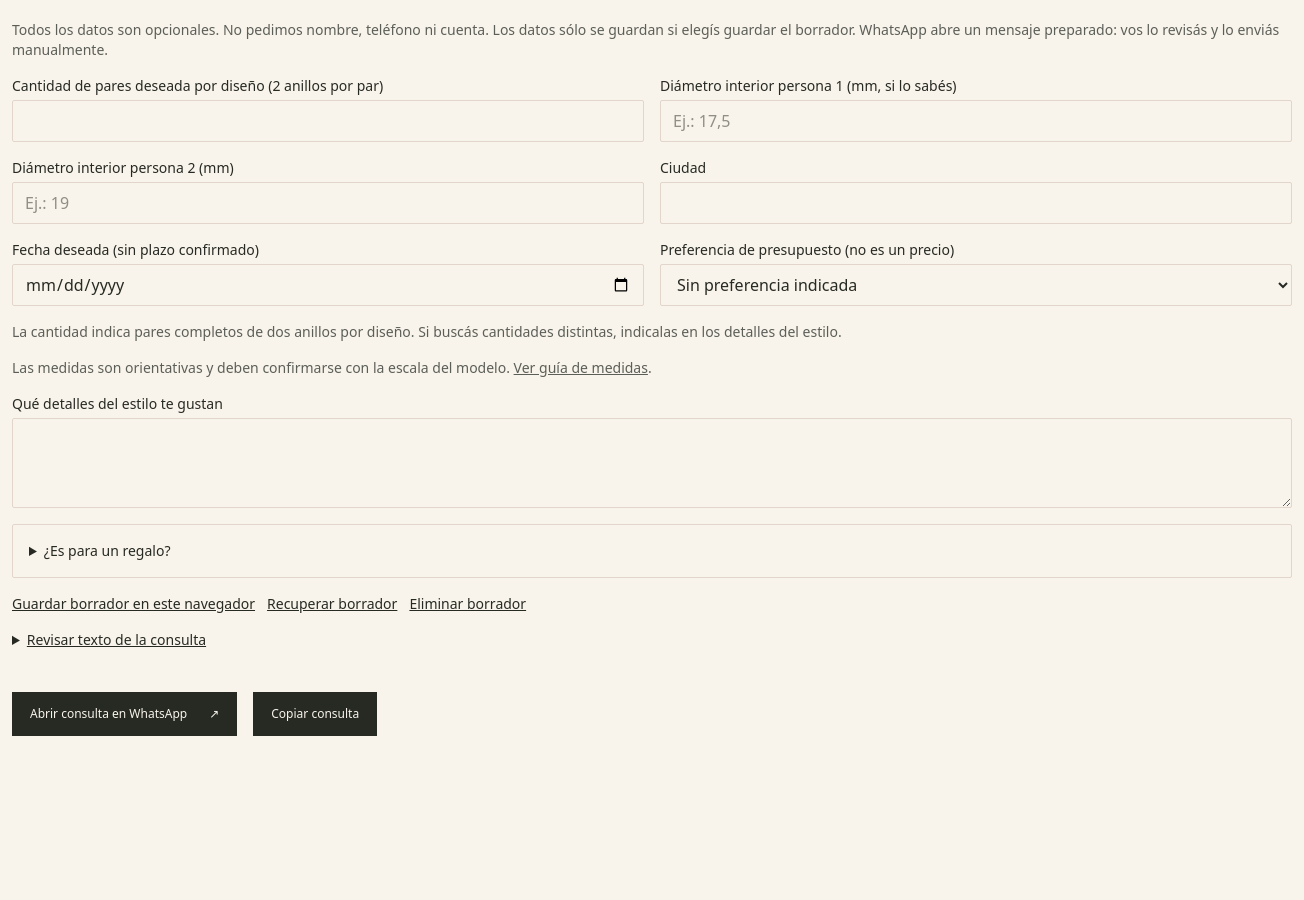
Test: optional enquiry composer › updates WhatsApp from optional inputs without automatic persistence
Expected: the text "vos lo revisás y lo enviás manualmente" is shown, [12,20,1279,59]
Type "Luque & Areguá" into the field labelled "Ciudad".
click(976, 203); type("Luque & Areguá")  # box [660,182,1292,224]
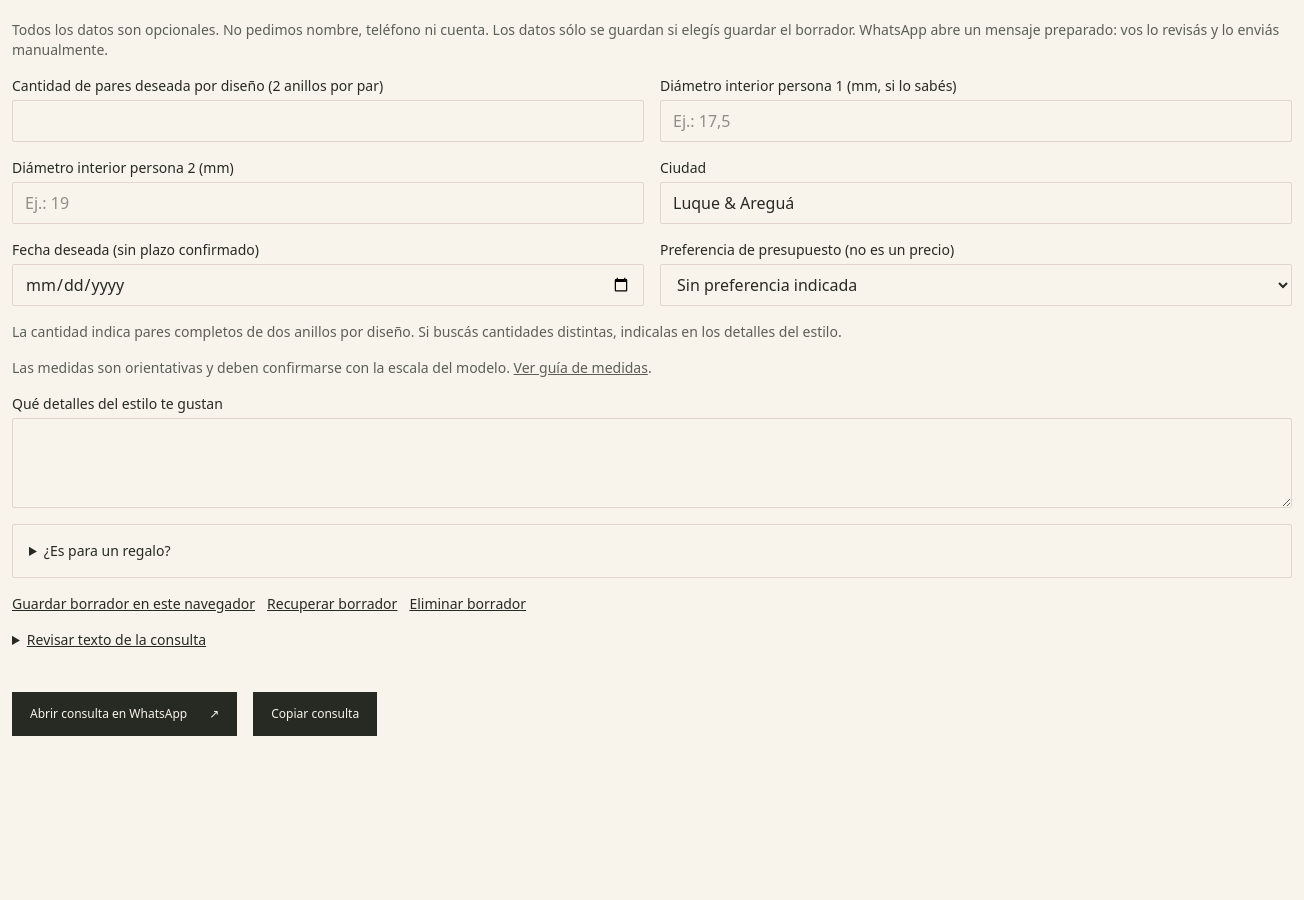
Type "17,5" into the field labelled "Diámetro interior persona 1 (mm, si lo sabés)".
click(976, 121); type("17,5")  # box [660,100,1292,142]
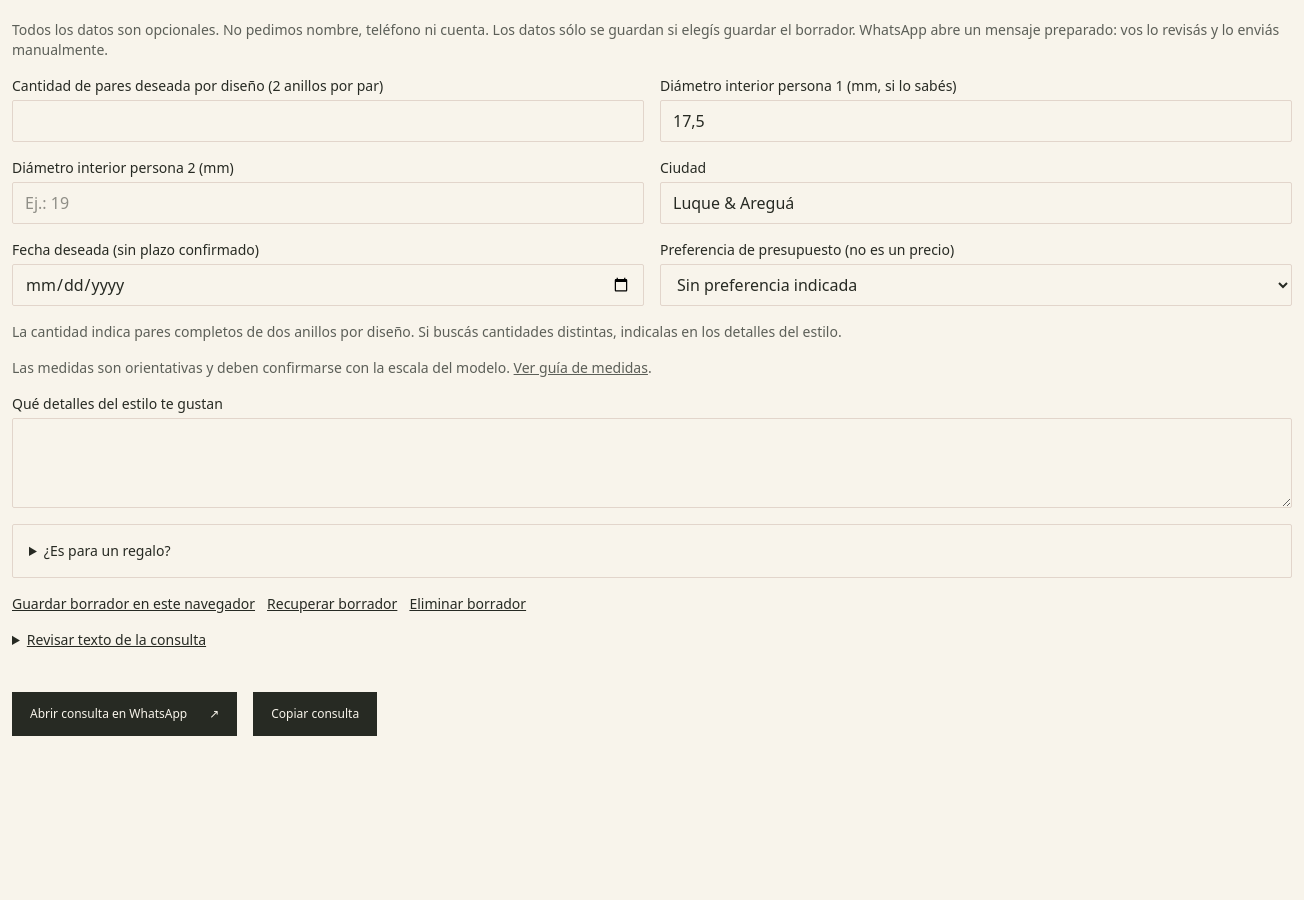
Type "19" into the field labelled "Diámetro interior persona 2 (mm)".
click(328, 203); type("19")  # box [12,182,644,224]
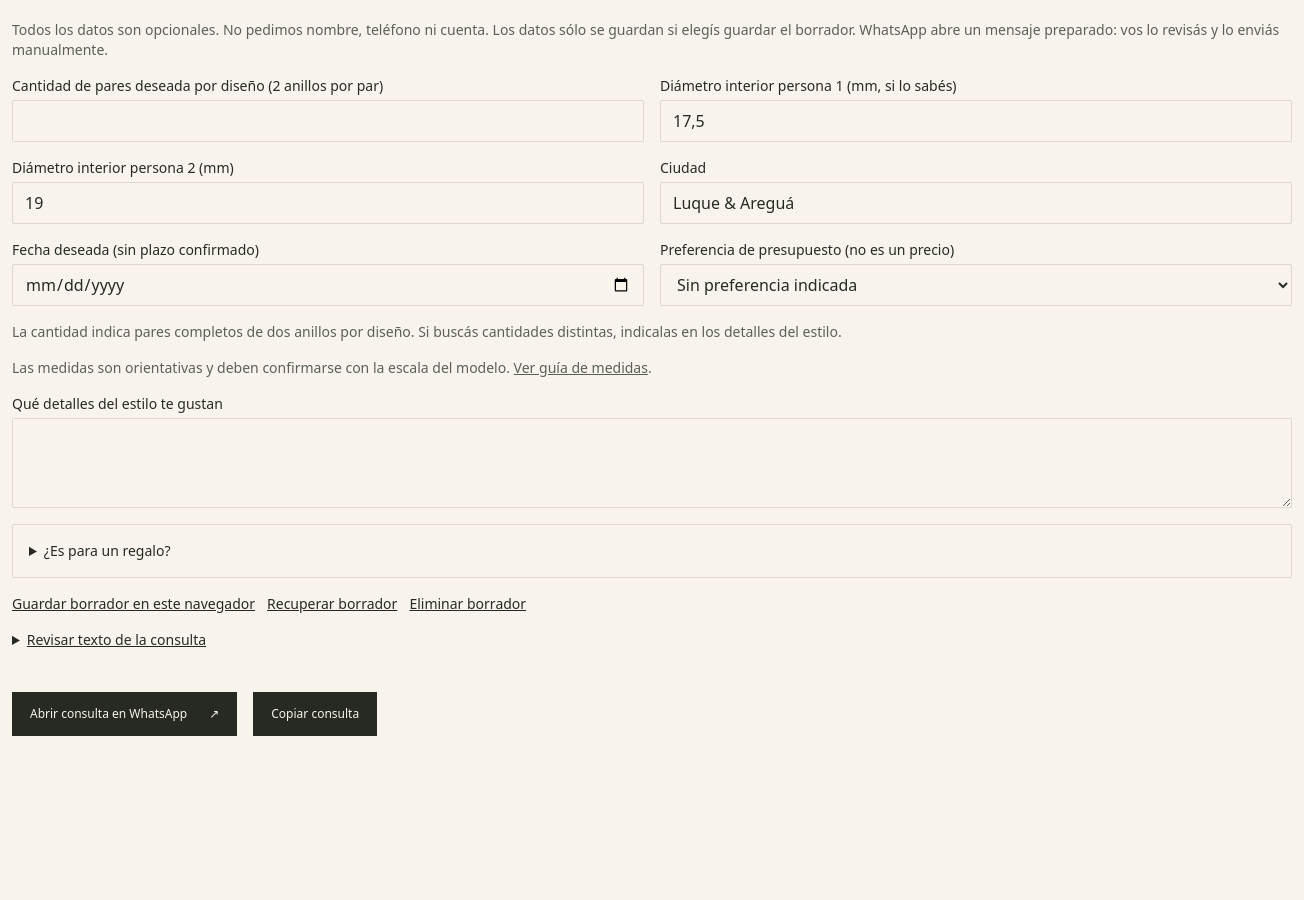
Click the button "Guardar borrador en este navegador".
click(134, 604)  # box [12,594,255,614]
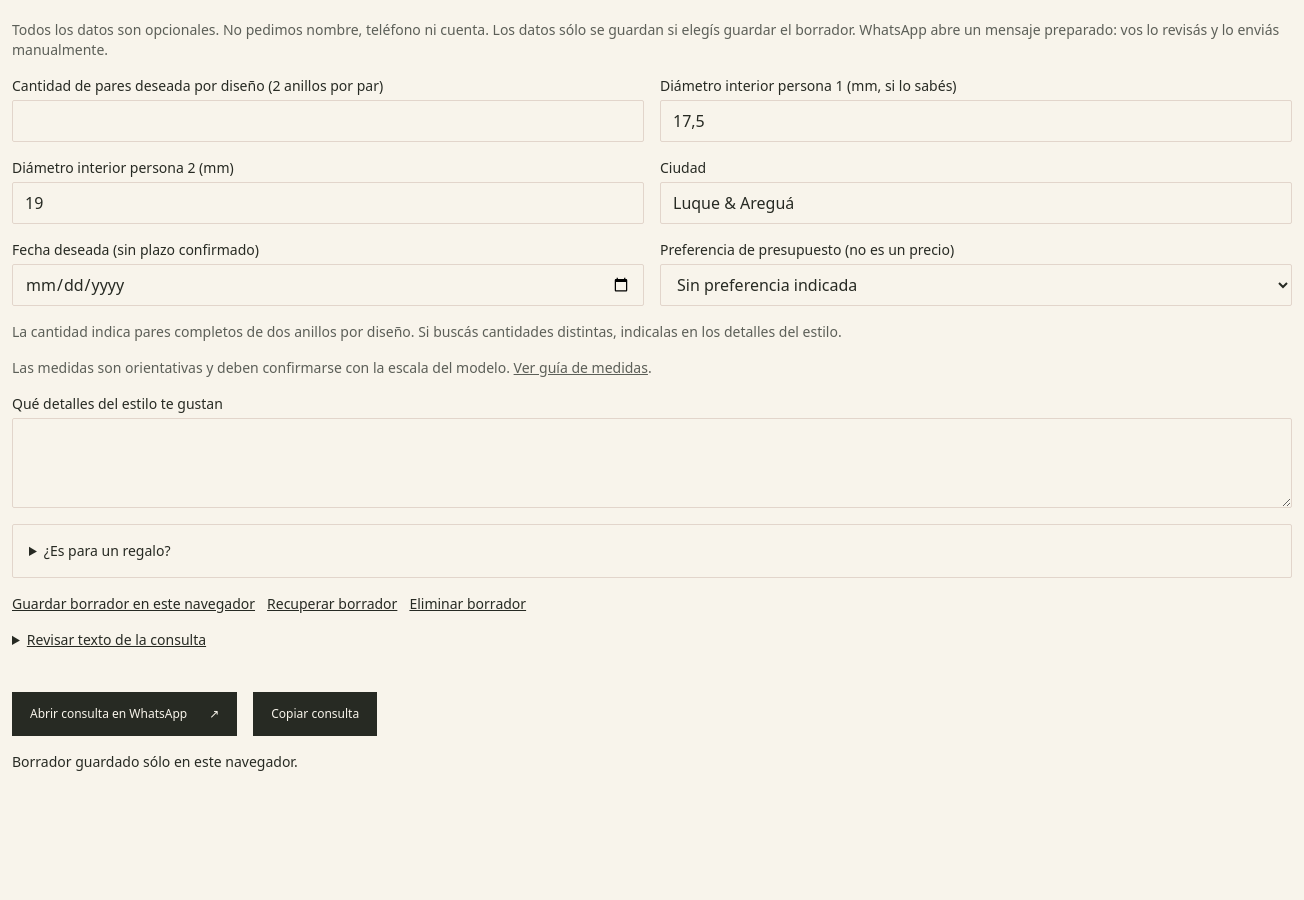
Click the button "Eliminar borrador".
click(468, 604)  # box [409,594,526,614]
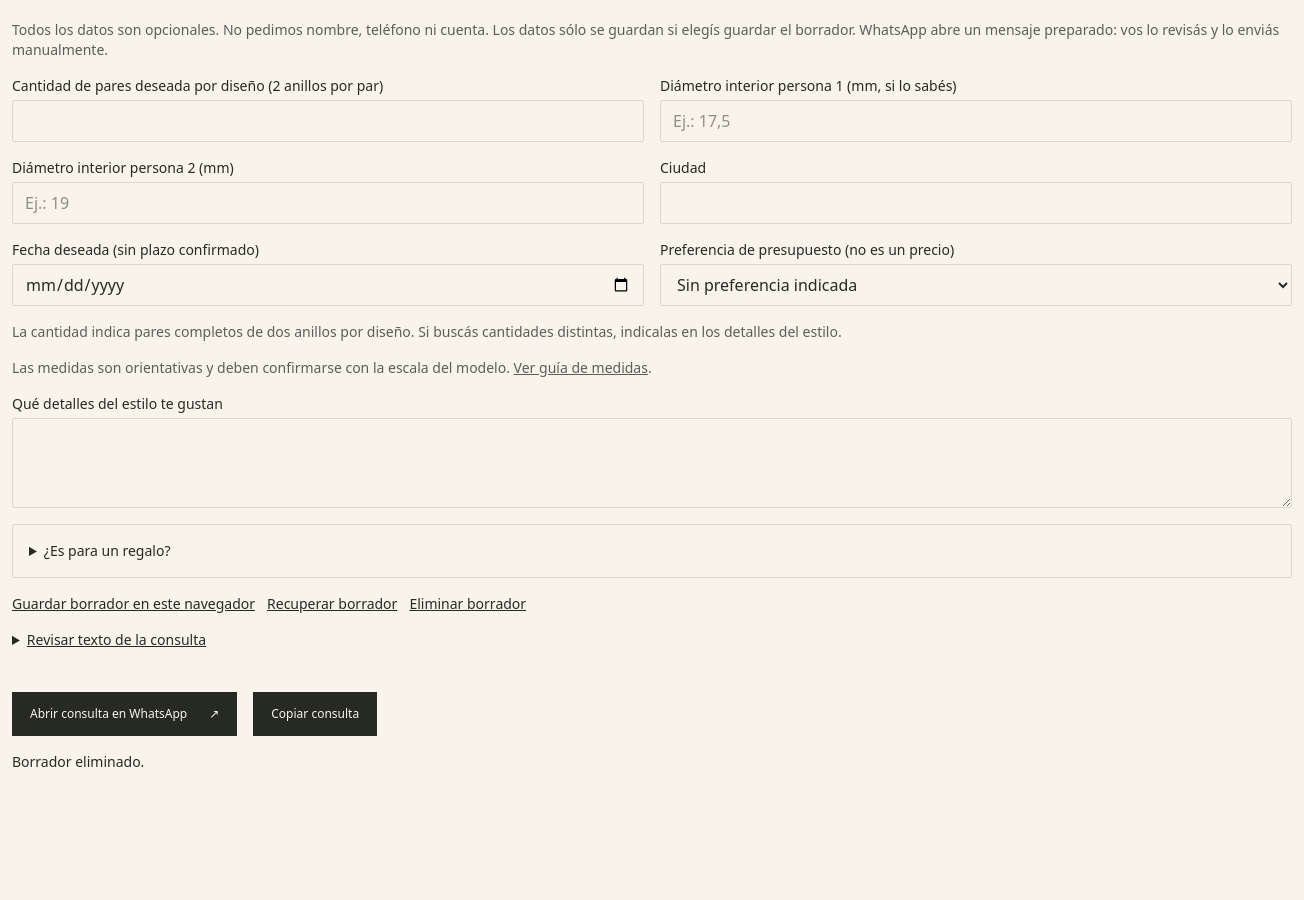
Result: the field labelled "Ciudad" is empty at [660,182,1292,224]
